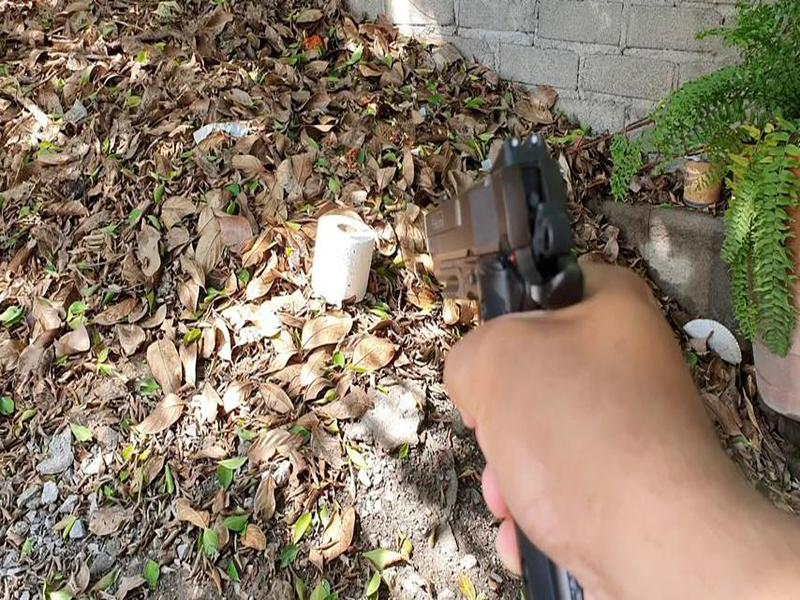Pistola: (395, 114, 628, 598)
